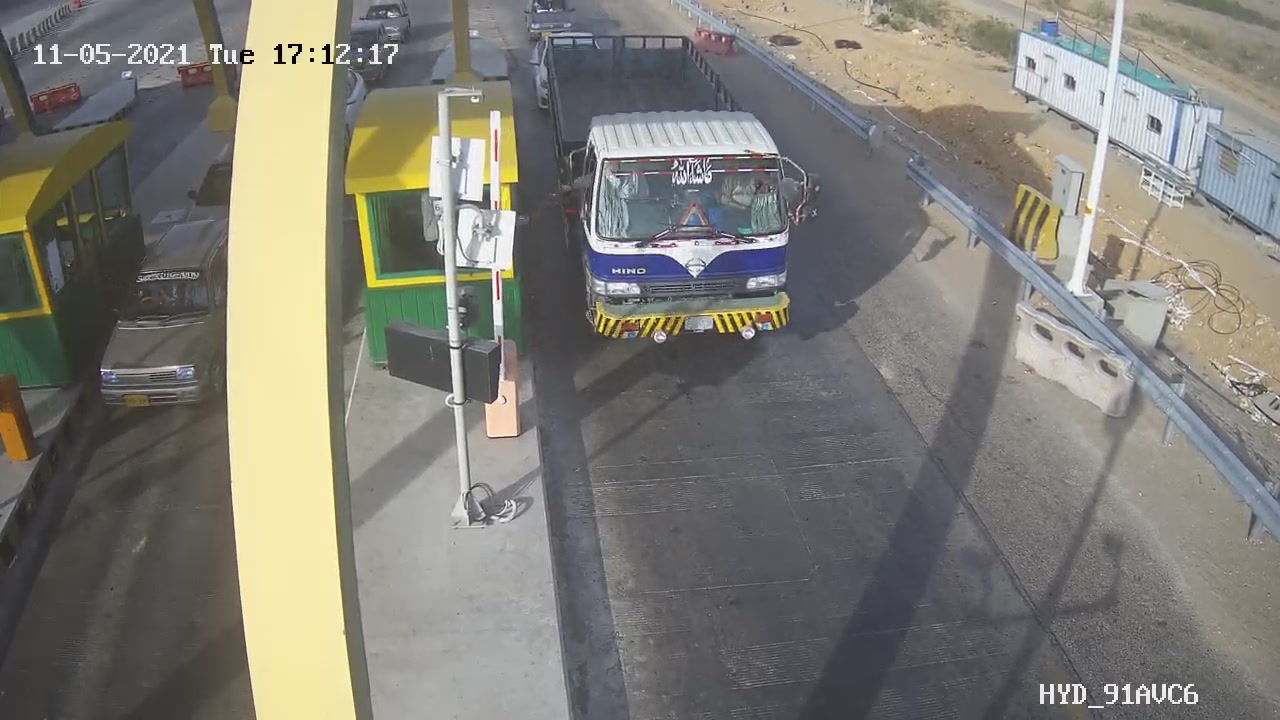F5: (527, 18, 846, 372)
